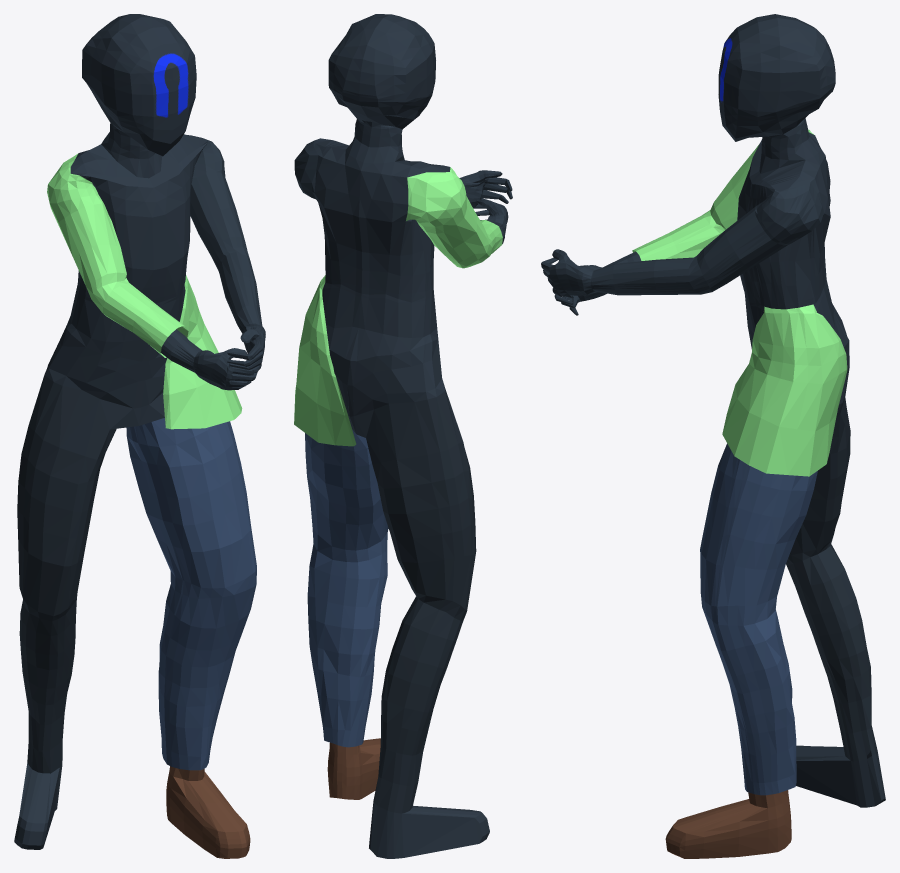
Rendered from Mar_WF_000017.obj.
3 views of the same model, side by side, from view 1: azimuth 30°, elevation 25°; view 2: azimuth 150°, elevation 25°; view 3: azimuth 270°, elevation 25° (orthographic). The views are drawn at different scales.
Visible parts, largest first — view 1: Cube.000_Cube.001; view 2: Cube.000_Cube.001; view 3: Cube.000_Cube.001.
Part boxes in pixels (<box>): Cube.000_Cube.001: <box>14,14,265,858</box>; Cube.000_Cube.001: <box>294,14,512,858</box>; Cube.000_Cube.001: <box>541,14,885,858</box>.
Bounding box in the file's own units: 1.05 × 3.89 × 1.5.
